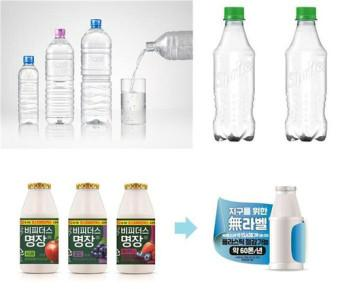bottle: (81, 18, 112, 125), (11, 29, 40, 126), (16, 55, 40, 124), (229, 5, 237, 142), (302, 7, 310, 142), (83, 184, 90, 273), (121, 91, 147, 111), (134, 184, 137, 273), (1, 184, 3, 273), (285, 185, 286, 271), (162, 16, 176, 17)
